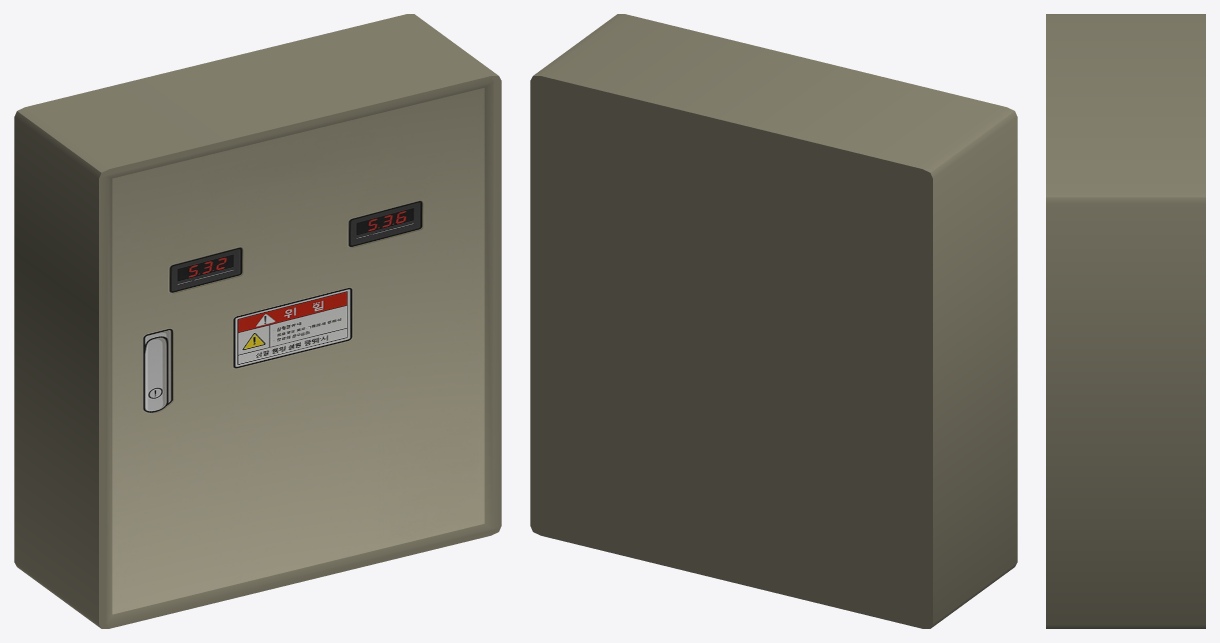
3 renders of one model, left to right at view 1: azimuth 30°, elevation 25°; view 2: azimuth 150°, elevation 25°; view 3: azimuth 270°, elevation 25°, orthographic. The views are drawn at different scales.
Visible parts, largest first — view 1: RM1-WH06W055D020; view 2: RM1-WH06W055D020; view 3: RM1-WH06W055D020.
Boxes of the visible parts, <box> form: RM1-WH06W055D020: <box>14,14,501,628</box>; RM1-WH06W055D020: <box>530,14,1017,628</box>; RM1-WH06W055D020: <box>1046,14,1205,628</box>.
Bounding box in the file's own units: 0.55 × 0.6 × 0.2.
Materials: 2 (1 with a texture image).
